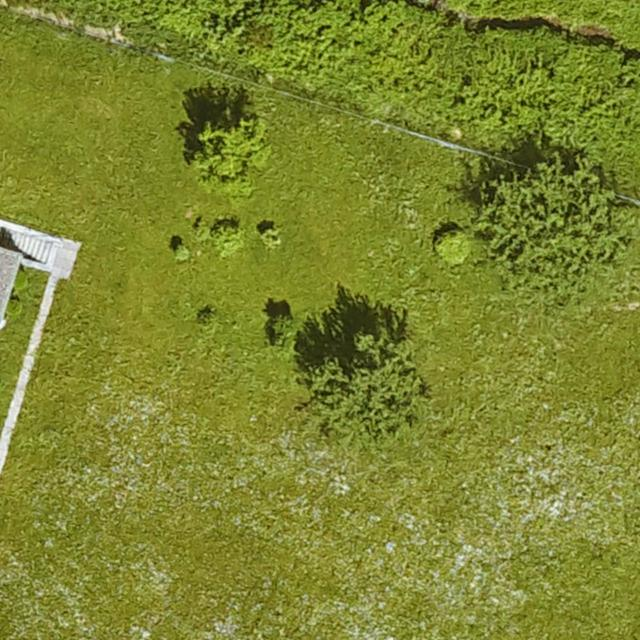tree: (472, 152, 622, 301), (310, 333, 426, 447), (192, 118, 268, 189)
